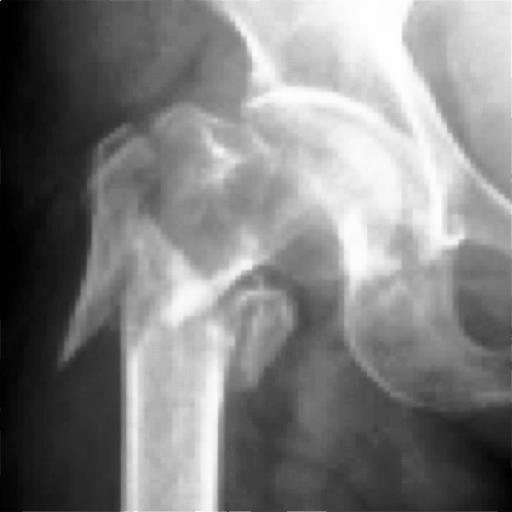grater-trochanter: (58, 125, 157, 371)
intertrochanteric: (151, 99, 406, 326), (122, 203, 240, 512)
lesser-trochanter: (232, 274, 299, 390)
